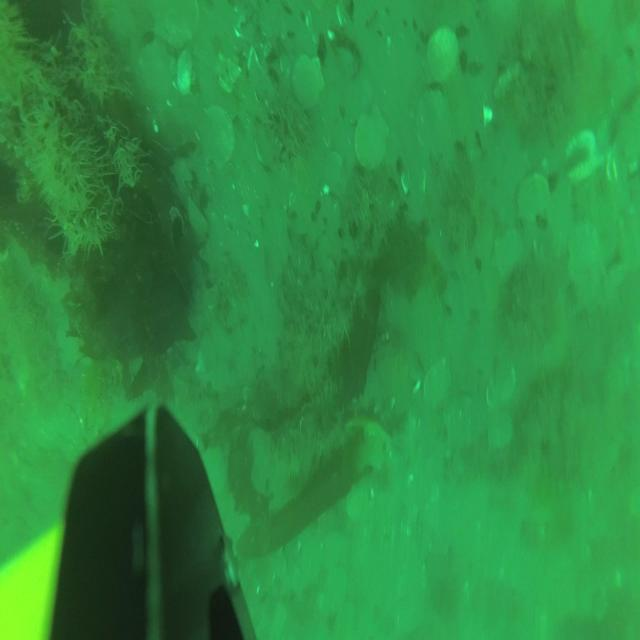scallop: (200, 105, 237, 170), (355, 106, 391, 170), (152, 1, 200, 46), (140, 46, 176, 103), (418, 88, 450, 149), (445, 393, 480, 447), (292, 54, 325, 108), (518, 170, 548, 224), (422, 357, 452, 410), (428, 27, 460, 76), (488, 360, 517, 409)
